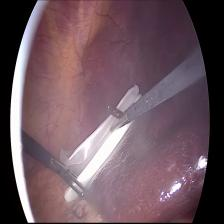Grasper: (54, 151, 92, 200), (104, 94, 131, 142)
Specimen Bag: (63, 82, 141, 208)
